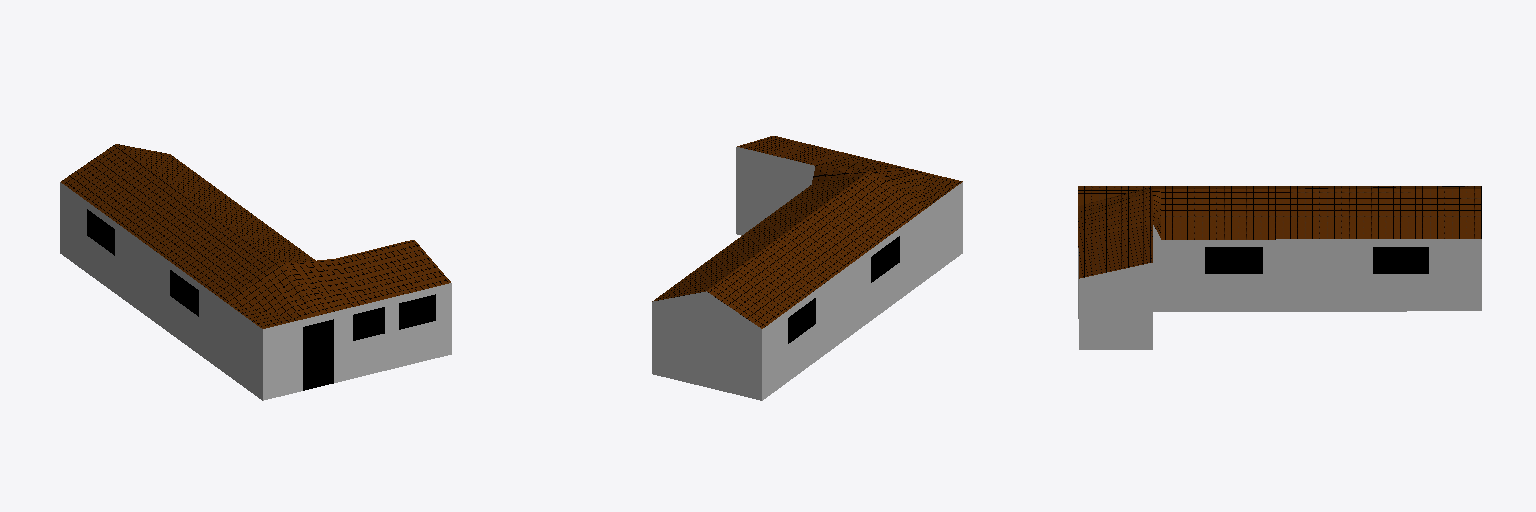
3 views of the same model, side by side, from view 1: azimuth 30°, elevation 25°; view 2: azimuth 150°, elevation 25°; view 3: azimuth 270°, elevation 25° (orthographic).
Parts seen in each view (by area): view 1: Cube_Cube.001; view 2: Cube_Cube.001; view 3: Cube_Cube.001.
Boxes of the visible parts, box(x1,y1,x2,y2) form: Cube_Cube.001: box(60, 144, 451, 400); Cube_Cube.001: box(652, 136, 962, 400); Cube_Cube.001: box(1078, 186, 1481, 349).
Bounding box in the file's own units: 2.89 × 1.39 × 5.31.
Materials: 3 (2 with a texture image).